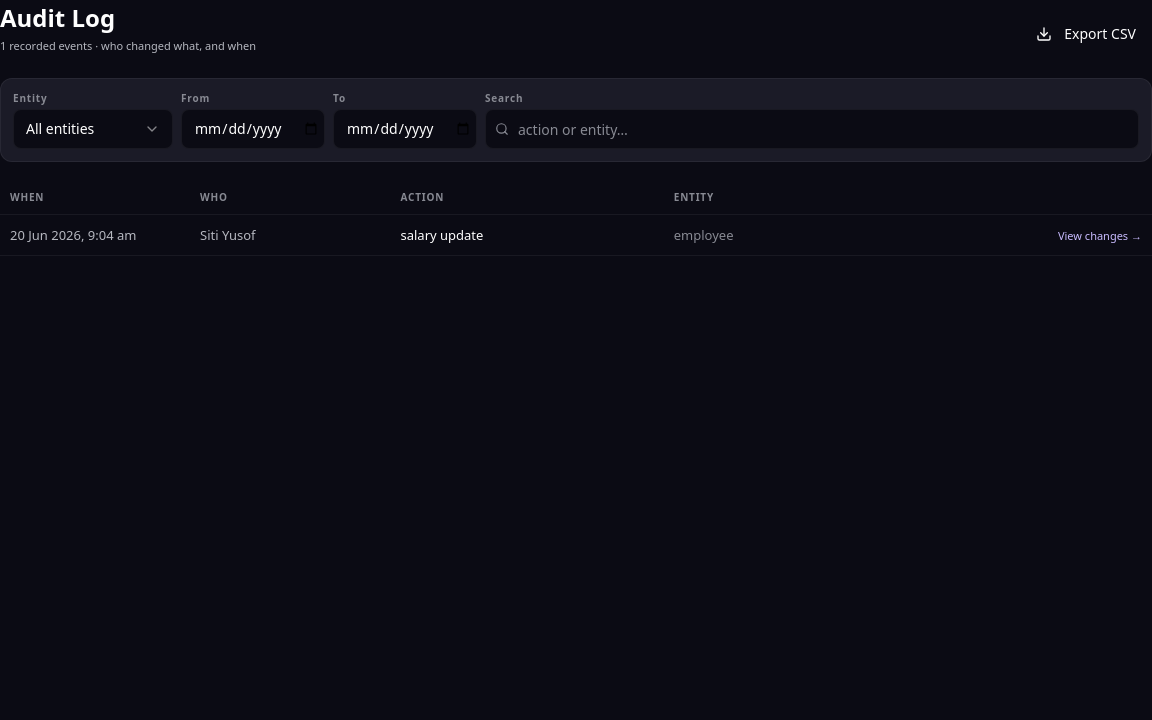
Scenario: AdminAuditLogPage › opens a before/after detail with changed fields highlighted
Click the text "Siti Yusof" at (228, 235), box [190, 214, 390, 256]
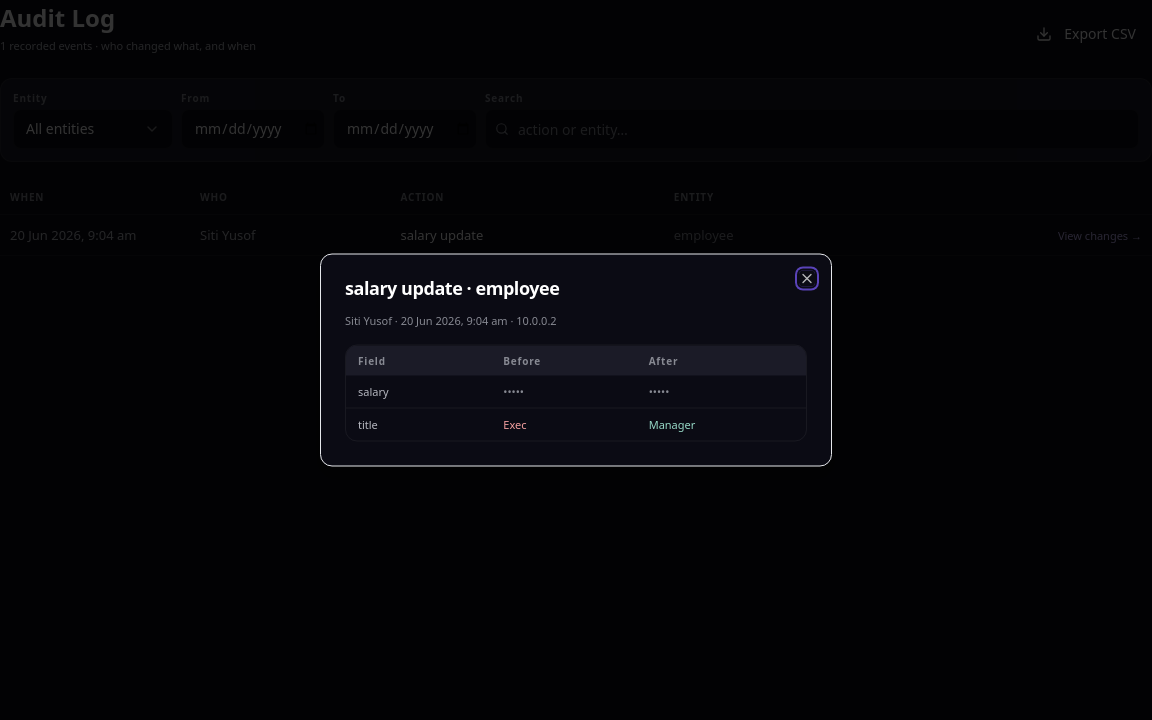
Expected: the text "Before" is shown, [503, 354, 541, 368]
Expected: the text "Exec" is shown, [503, 416, 526, 432]
Expected: the text "Manager" is shown, [649, 416, 695, 432]
